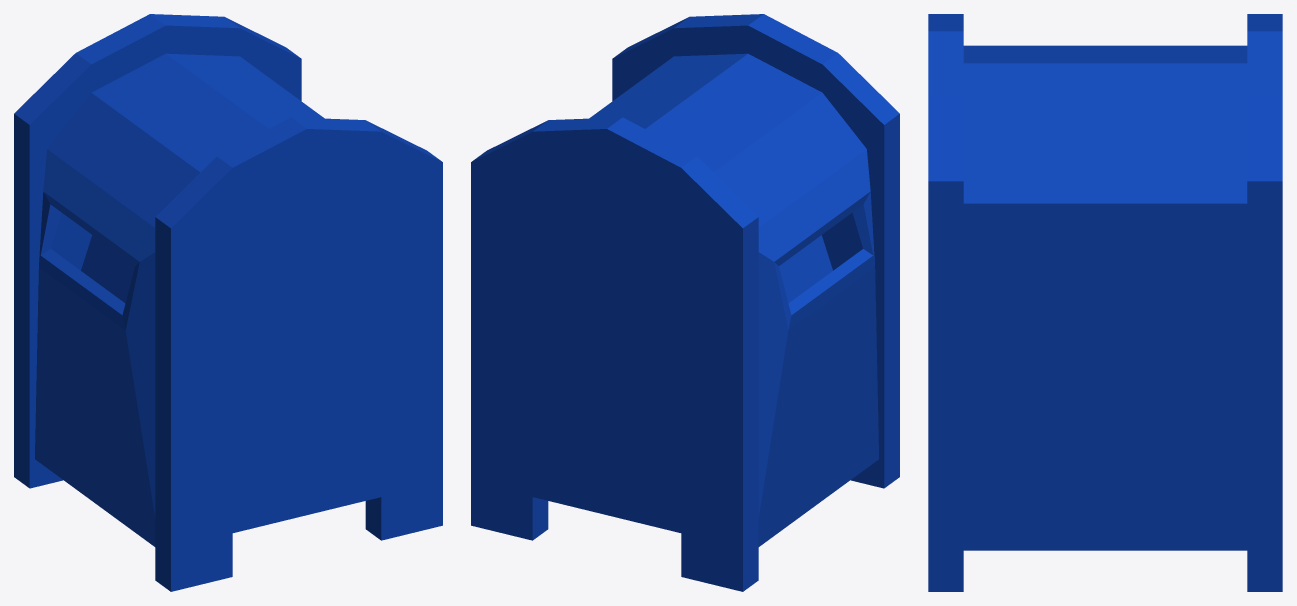
Rendered from PostBox.fbx.
The picture shows the model from 3 angles, left to right: view 1: azimuth 30°, elevation 25°; view 2: azimuth 150°, elevation 25°; view 3: azimuth 270°, elevation 25°; orthographic projection. The views are drawn at different scales.
Visible parts, largest first — view 1: Postbox; view 2: Postbox; view 3: Postbox.
Part boxes in pixels (left/top/right/bottom): Postbox: left=14, top=14, right=442, bottom=591; Postbox: left=471, top=14, right=899, bottom=591; Postbox: left=928, top=14, right=1282, bottom=591.
Bounding box in the file's own units: 56.9 × 82.64 × 54.7.
